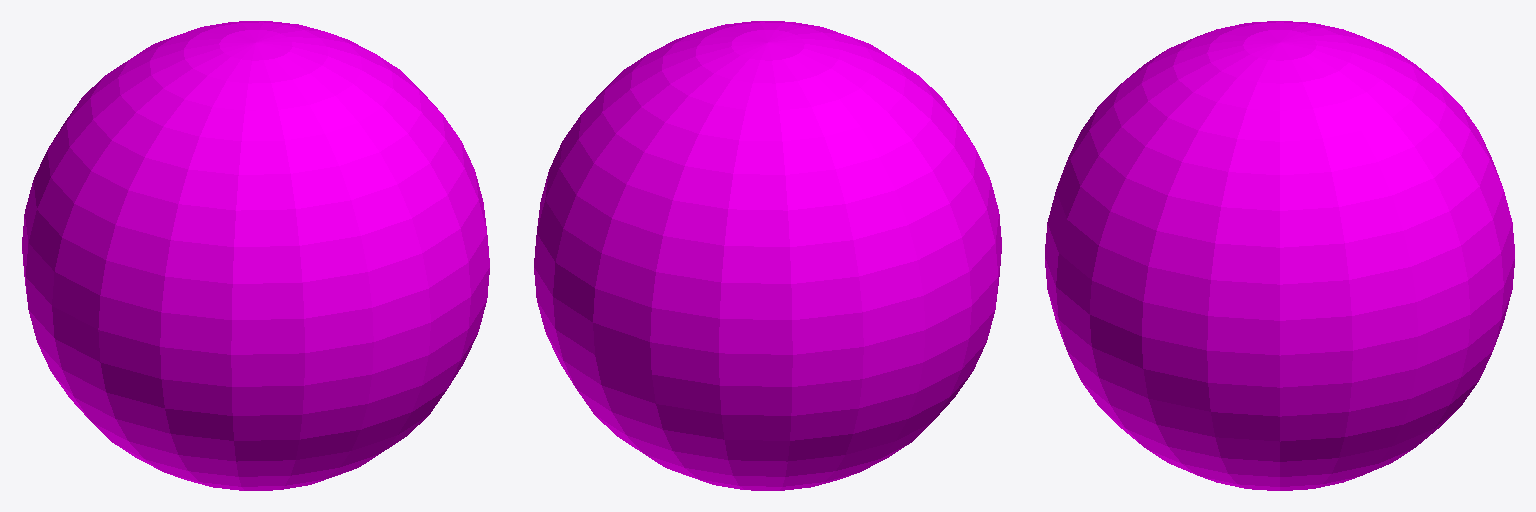
File: spheres.obj
The picture shows the model from 3 angles: view 1: azimuth 30°, elevation 25°; view 2: azimuth 150°, elevation 25°; view 3: azimuth 270°, elevation 25°; orthographic projection.
Parts seen in each view (by area): view 1: sphere_2 spheres; view 2: sphere_2 spheres; view 3: sphere_2 spheres.
Part boxes in pixels (bbox=[...]): sphere_2 spheres: bbox=[22, 21, 489, 490]; sphere_2 spheres: bbox=[534, 21, 1001, 490]; sphere_2 spheres: bbox=[1045, 21, 1514, 490].
Size of the model in its own units: 4 by 4 by 4.